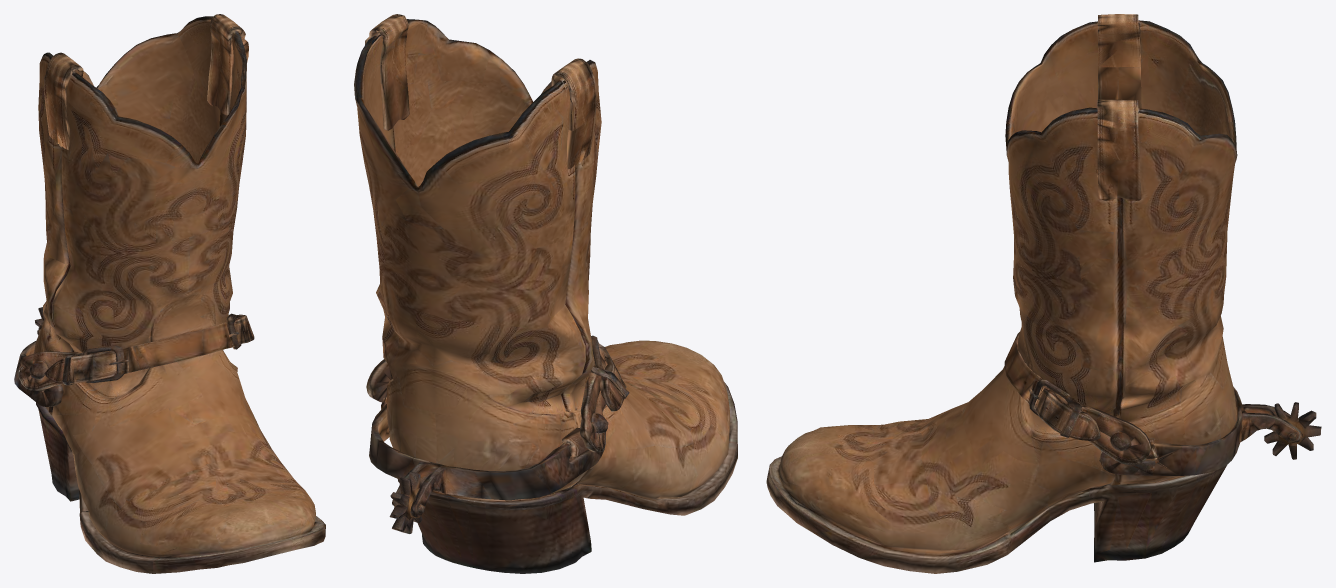
File: spurs-right.glb
3 renders of one model, left to right at view 1: azimuth 30°, elevation 25°; view 2: azimuth 150°, elevation 25°; view 3: azimuth 270°, elevation 25°, orthographic. The views are drawn at different scales.
Visible parts, largest first — view 1: spurs; view 2: spurs; view 3: spurs.
Part boxes in pixels (box(x1,y1,x2,y2)): spurs: box(14, 14, 325, 573); spurs: box(354, 14, 737, 573); spurs: box(766, 14, 1321, 573).
Size of the model in its own units: 0.22 by 0.42 by 0.44.
1 material, 1 textured.
